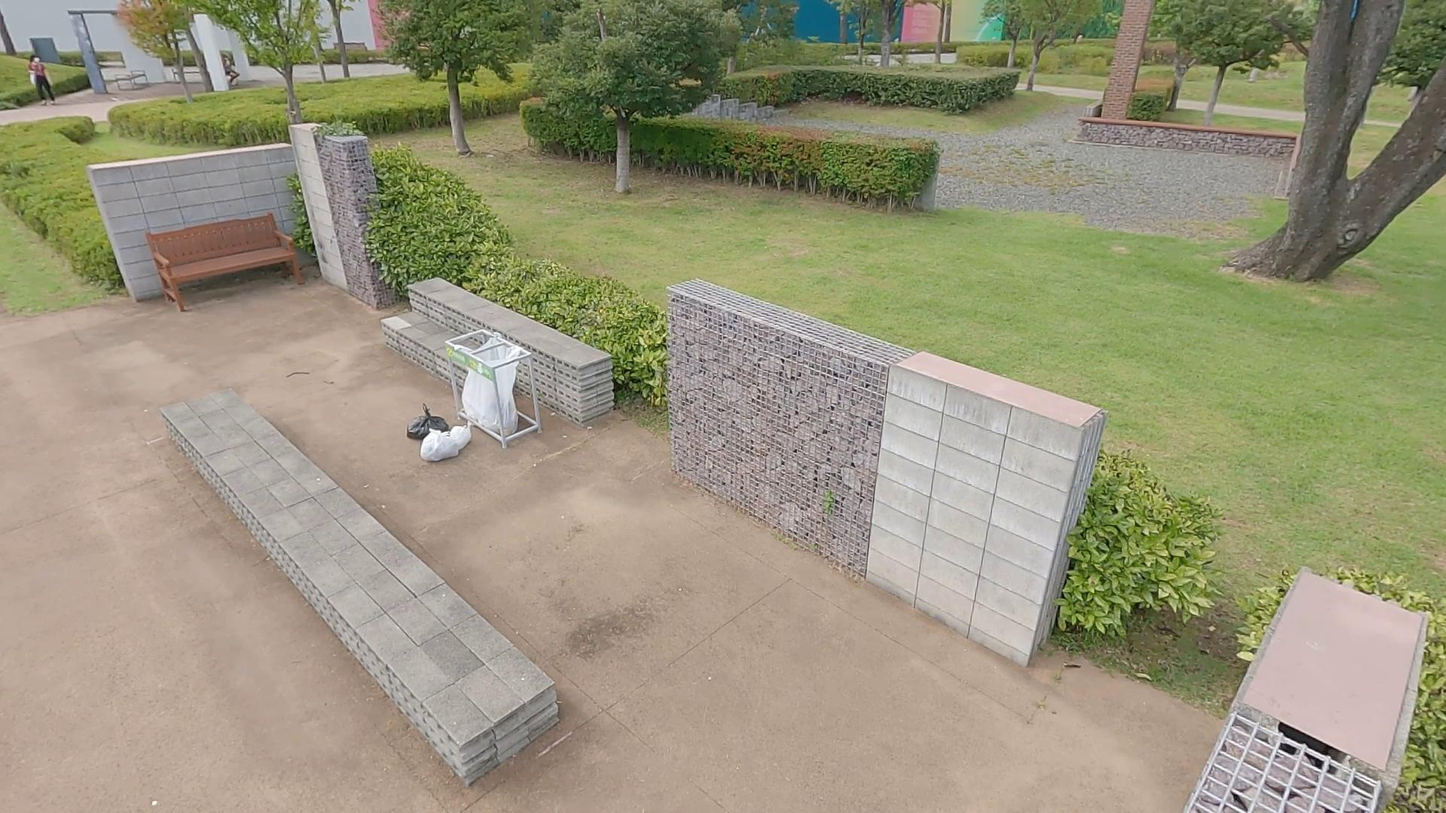person: (28, 51, 56, 105)
trash: (407, 404, 451, 440), (420, 426, 459, 461), (448, 422, 473, 452)
